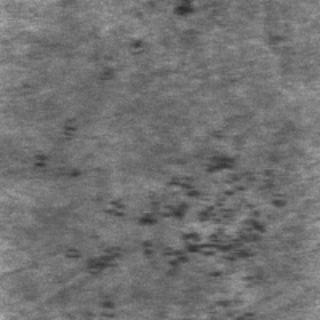rolled pit: (80, 141, 284, 317)
